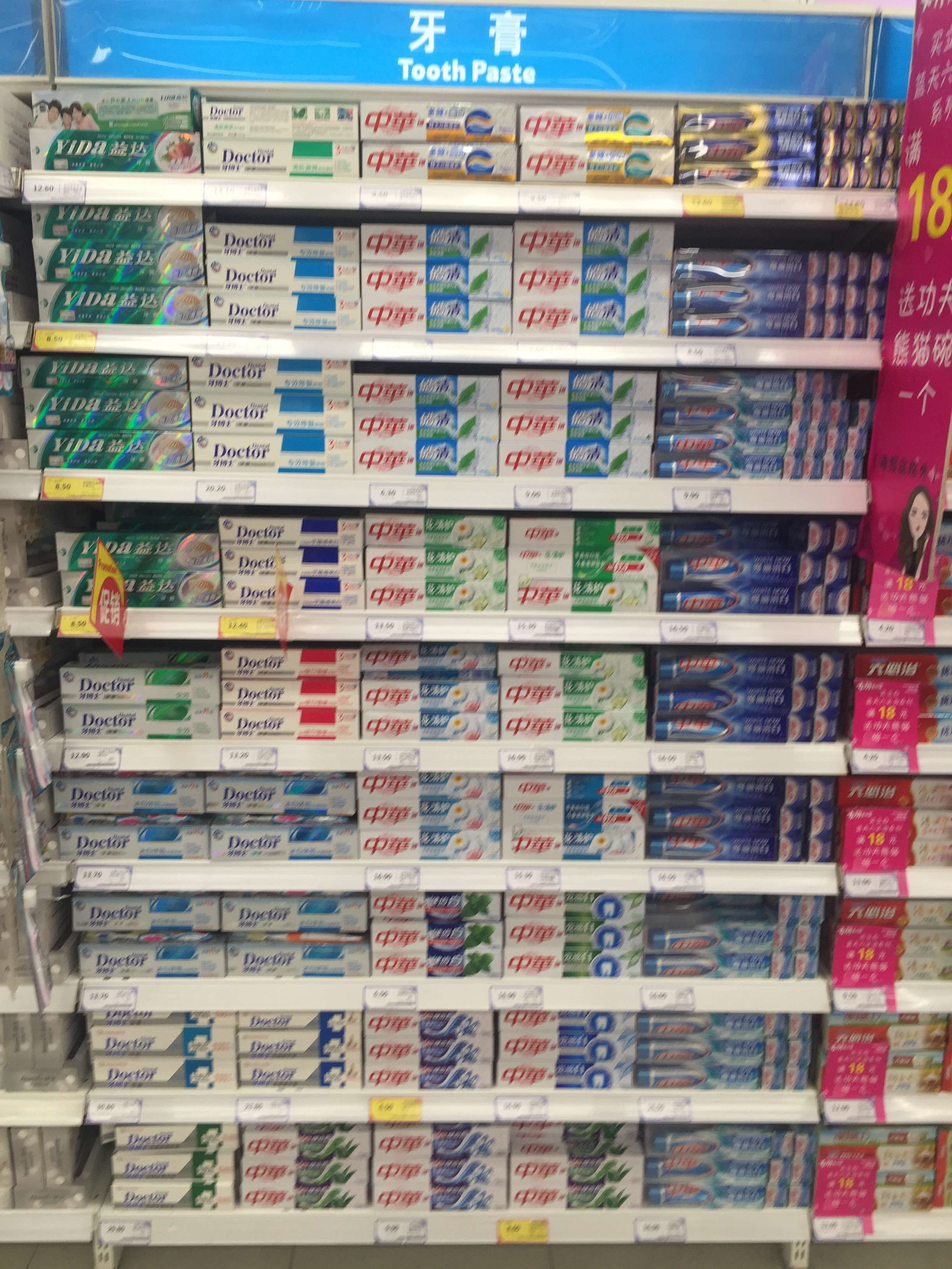Box: (361, 98, 516, 143), (30, 92, 199, 131), (57, 532, 217, 573), (36, 244, 200, 284), (189, 395, 352, 435), (28, 429, 187, 470), (521, 103, 669, 147), (33, 205, 198, 244), (188, 355, 352, 394), (30, 133, 198, 171), (60, 665, 218, 705), (35, 285, 205, 322), (360, 221, 511, 262), (27, 390, 188, 428), (361, 143, 516, 182), (503, 367, 653, 407), (502, 439, 645, 480), (191, 436, 350, 472), (52, 779, 205, 816), (206, 142, 358, 179), (62, 821, 206, 860), (58, 575, 222, 609), (198, 102, 357, 137), (209, 777, 355, 815), (210, 287, 359, 324), (821, 1013, 949, 1056), (362, 298, 508, 335), (209, 820, 355, 857), (69, 895, 217, 931), (358, 442, 496, 480), (230, 939, 367, 977), (508, 543, 656, 578), (222, 895, 364, 931), (361, 262, 511, 296), (519, 147, 677, 179), (356, 375, 496, 411), (366, 511, 505, 546), (362, 675, 499, 710), (210, 255, 359, 287), (82, 942, 222, 976), (496, 797, 644, 829), (361, 549, 504, 582), (511, 1123, 642, 1159), (502, 408, 654, 439), (61, 708, 217, 738), (501, 678, 651, 709), (514, 295, 621, 338), (677, 97, 812, 131), (508, 577, 656, 608), (675, 130, 812, 163), (362, 640, 498, 673), (657, 707, 788, 741), (514, 219, 623, 259), (500, 709, 650, 738), (499, 831, 648, 860), (23, 358, 177, 386), (676, 248, 799, 283), (358, 411, 496, 442), (662, 552, 791, 585), (226, 574, 359, 605), (653, 646, 789, 676), (368, 923, 503, 953), (221, 682, 360, 711), (657, 425, 786, 456), (210, 229, 358, 256), (358, 799, 490, 829), (822, 1056, 938, 1090), (511, 260, 623, 295), (372, 1125, 502, 1155), (107, 1150, 237, 1180), (220, 713, 359, 741), (360, 713, 499, 741), (243, 1127, 367, 1158), (645, 925, 773, 955), (222, 546, 359, 574), (508, 950, 640, 979), (371, 1157, 506, 1185), (666, 369, 792, 399), (662, 586, 797, 614), (508, 519, 662, 543), (506, 895, 642, 922), (507, 923, 642, 950), (362, 582, 507, 607), (500, 650, 645, 675), (357, 829, 495, 855), (368, 892, 499, 919), (224, 648, 355, 675), (221, 519, 362, 544), (677, 164, 818, 189), (650, 776, 775, 804), (674, 283, 798, 311), (107, 1182, 234, 1209), (355, 773, 491, 797), (664, 523, 789, 549), (647, 1180, 763, 1208), (674, 312, 802, 337), (494, 774, 639, 796), (648, 809, 778, 833), (841, 927, 948, 956), (666, 398, 785, 424), (17, 662, 45, 772), (844, 836, 946, 866), (372, 1184, 505, 1207), (844, 780, 949, 809), (656, 456, 777, 481), (11, 789, 47, 873), (662, 683, 788, 707), (238, 1159, 368, 1182), (862, 652, 947, 687), (369, 956, 498, 979), (508, 1161, 642, 1183), (649, 834, 777, 857), (641, 1038, 758, 1063), (837, 900, 949, 926), (237, 1182, 367, 1204), (10, 1128, 44, 1209), (639, 1013, 764, 1035), (645, 954, 767, 976), (637, 1065, 758, 1087), (844, 811, 949, 836), (508, 1187, 639, 1207), (842, 957, 946, 982), (821, 1124, 939, 1146), (34, 1010, 66, 1090), (862, 685, 947, 715), (856, 720, 946, 748), (645, 1159, 763, 1180), (821, 1146, 933, 1168), (810, 1168, 933, 1188), (44, 1129, 74, 1210), (646, 1140, 772, 1159), (811, 1190, 931, 1209), (27, 891, 47, 1004), (4, 1013, 33, 1090), (105, 1128, 222, 1147), (653, 221, 666, 337), (622, 295, 647, 338), (788, 706, 814, 743), (814, 711, 844, 743), (796, 522, 826, 552), (819, 654, 850, 683), (628, 221, 651, 259), (797, 553, 823, 583), (794, 650, 818, 681), (778, 830, 805, 857), (798, 582, 822, 612), (818, 685, 850, 707), (808, 808, 835, 834), (802, 897, 827, 925), (863, 129, 887, 158), (818, 156, 838, 190), (796, 925, 821, 952), (820, 99, 844, 127), (845, 254, 871, 279), (770, 952, 797, 976), (827, 584, 848, 614), (810, 781, 835, 806), (788, 1013, 812, 1039), (781, 804, 804, 831), (840, 157, 860, 188), (827, 556, 849, 584), (830, 522, 848, 556), (629, 259, 646, 295), (794, 683, 819, 707), (820, 128, 842, 155), (844, 310, 866, 337), (781, 780, 805, 804), (768, 1161, 791, 1185), (786, 1066, 809, 1090), (809, 836, 835, 857), (803, 310, 824, 336), (880, 159, 898, 189), (853, 399, 872, 427), (779, 898, 802, 921), (865, 101, 888, 124), (788, 428, 809, 453), (808, 253, 829, 278), (842, 128, 862, 154), (824, 311, 844, 337), (774, 1134, 796, 1157), (887, 101, 910, 123), (765, 1040, 789, 1061), (829, 402, 850, 426), (844, 102, 865, 126), (846, 281, 867, 305), (789, 1187, 814, 1207), (809, 428, 829, 453), (789, 1040, 810, 1063), (802, 454, 822, 478), (775, 926, 794, 951), (796, 373, 814, 399), (823, 457, 844, 479), (824, 283, 846, 304), (797, 953, 817, 976), (764, 1188, 788, 1207), (761, 1066, 785, 1085), (829, 427, 847, 452), (829, 253, 847, 278), (861, 159, 877, 187), (849, 426, 865, 454), (808, 278, 824, 306), (813, 373, 830, 399), (810, 402, 829, 425), (844, 457, 862, 481), (793, 402, 809, 428), (869, 287, 885, 313), (765, 1014, 785, 1034), (887, 129, 901, 157), (872, 255, 884, 287), (831, 373, 851, 392), (797, 1133, 812, 1158), (785, 456, 802, 478), (793, 1161, 809, 1183), (869, 313, 881, 341)
